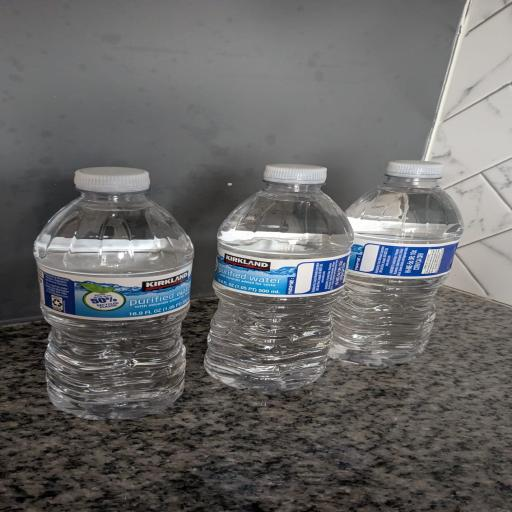waterbottle: (35, 168, 193, 419), (205, 165, 353, 391), (330, 161, 462, 366)
